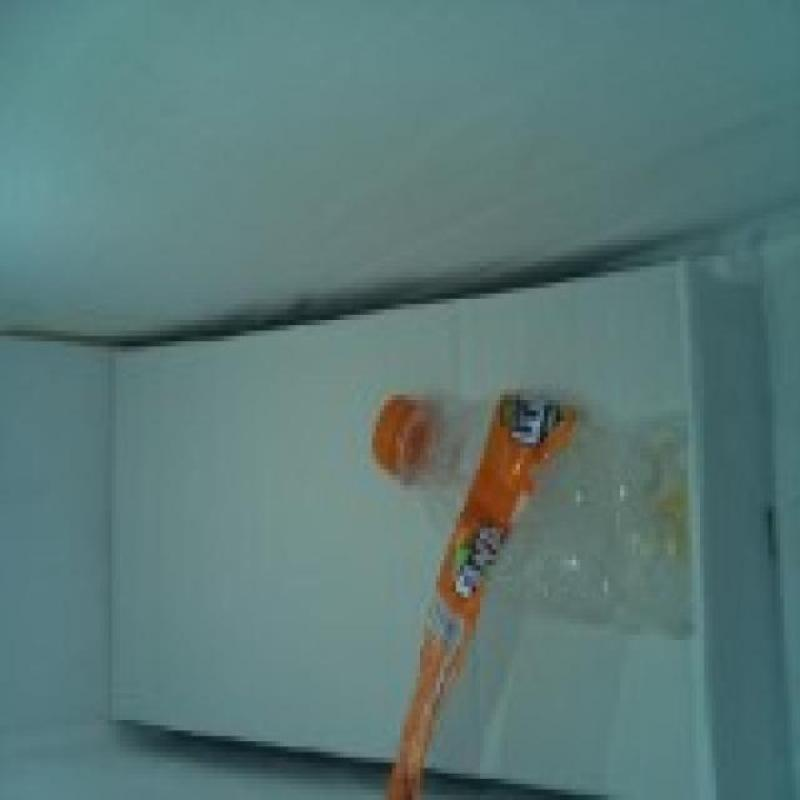botella: (373, 392, 692, 638)
